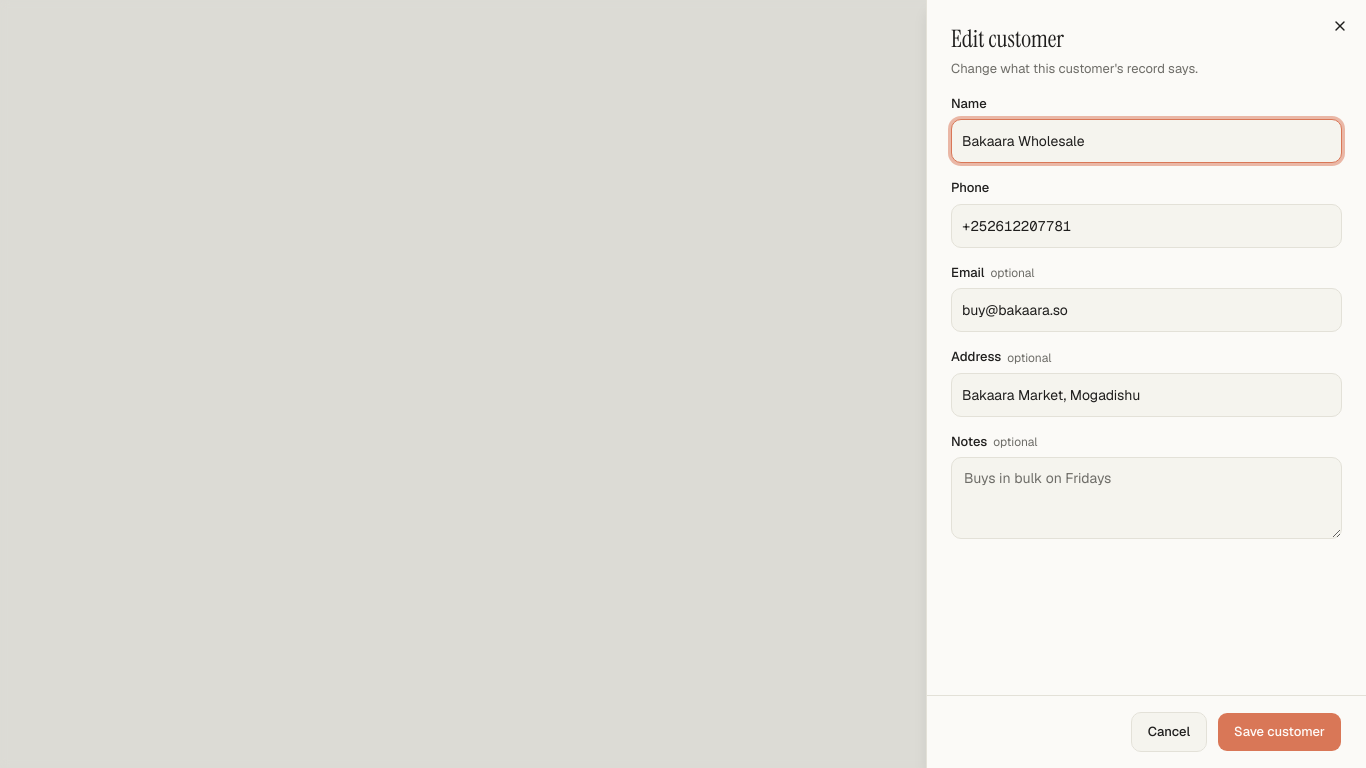
CustomerFormSheet — editing › refuses to send an empty PATCH when nothing was touched
Click the button "Save customer" at (1280, 732), box [1217,712,1342,752]
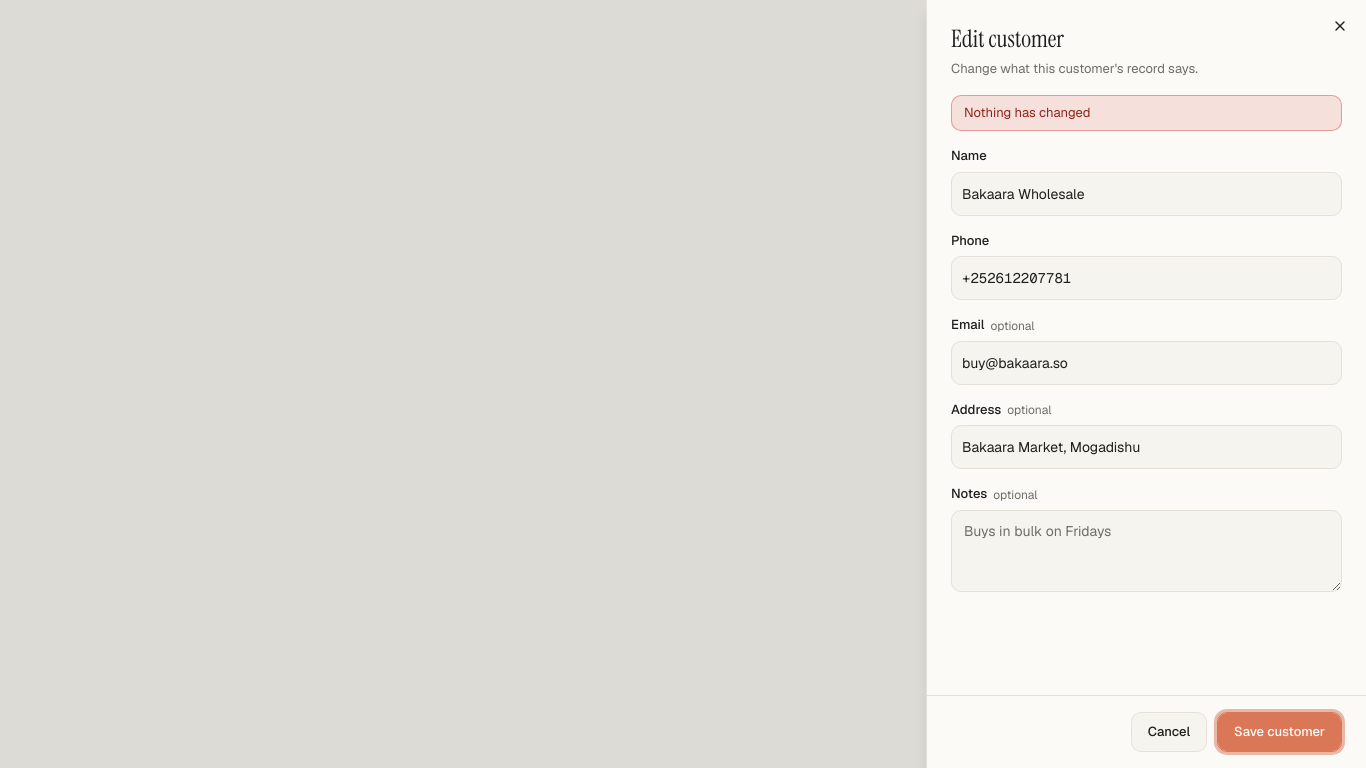
expect the text "Nothing has changed" is shown: met, box [951,95,1342,131]
